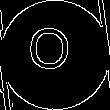O_S: (33, 29, 77, 81)
